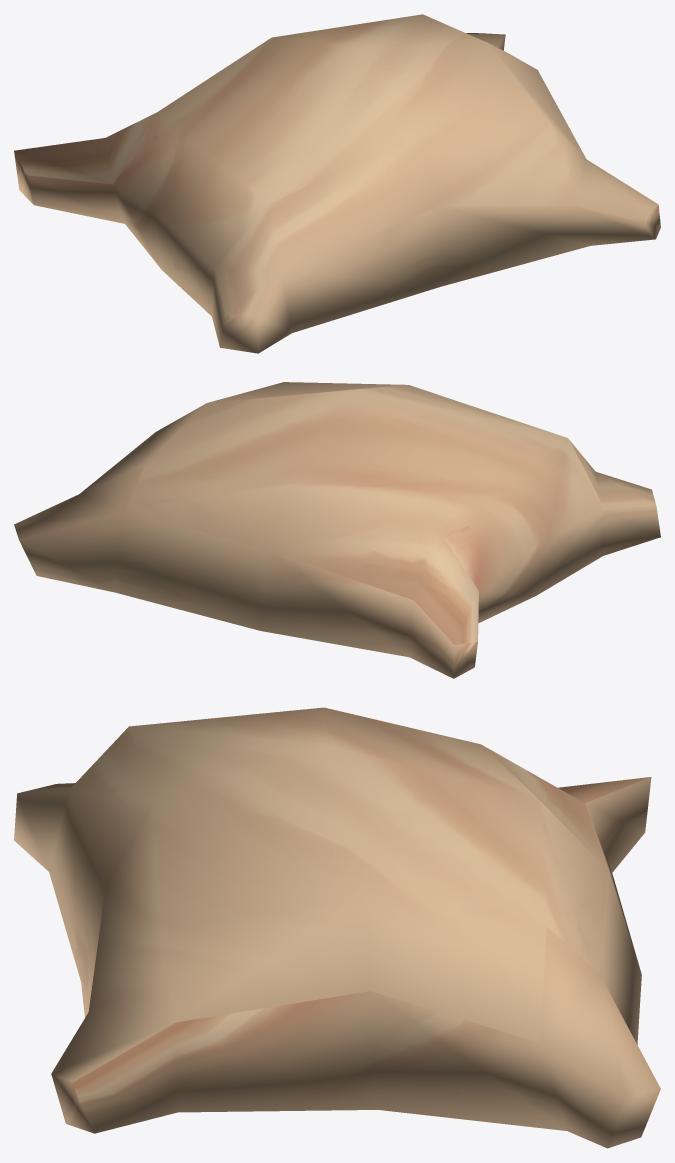
Rendered from SM_PROP_sack_06.fbx.
3 renders of one model, top to bottom at view 1: azimuth 30°, elevation 25°; view 2: azimuth 150°, elevation 25°; view 3: azimuth 270°, elevation 25°, orthographic. The views are drawn at different scales.
Parts seen in each view (by area): view 1: SM_PROP_sack_06; view 2: SM_PROP_sack_06; view 3: SM_PROP_sack_06.
Boxes of the visible parts, <box> form: SM_PROP_sack_06: <box>14,14,660,353</box>; SM_PROP_sack_06: <box>14,382,660,678</box>; SM_PROP_sack_06: <box>14,707,660,1148</box>.
Bounding box in the file's own units: 67.41 × 22.96 × 55.46.
